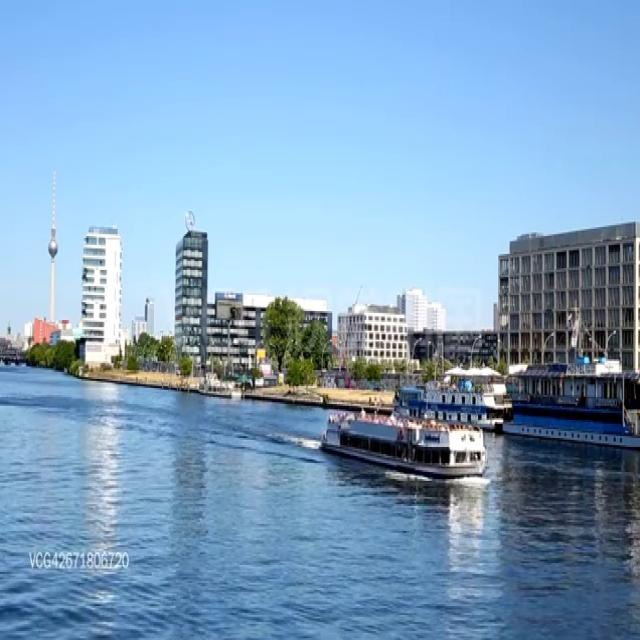passenger ship: (316, 400, 488, 480), (499, 354, 640, 449), (389, 378, 498, 424), (197, 372, 243, 399)
